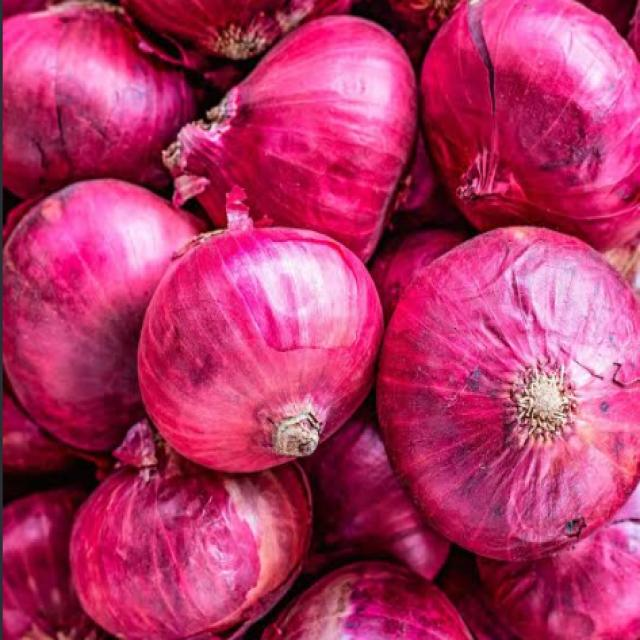healthy: (70, 228, 382, 638), (139, 227, 383, 472), (175, 15, 417, 260)
mechanical_damage: (378, 227, 639, 559)
